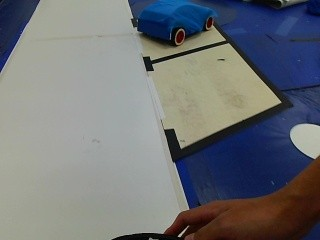car: (132, 1, 216, 48)
